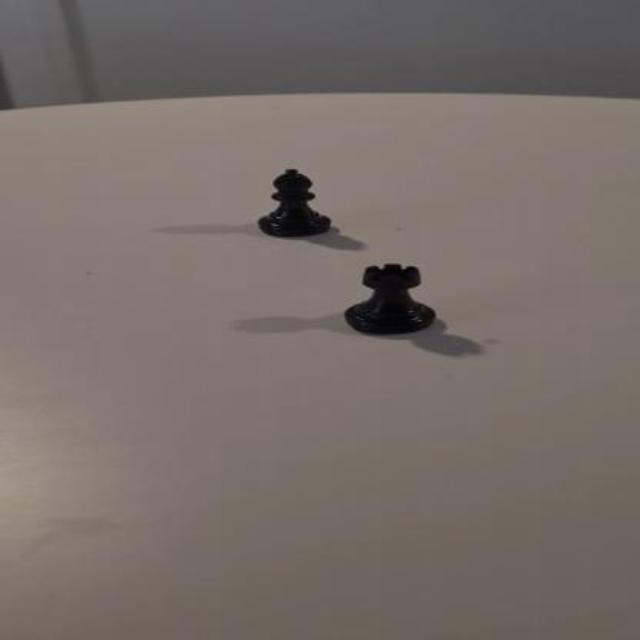black-bishop: (258, 167, 334, 239)
black-rook: (342, 261, 437, 334)
